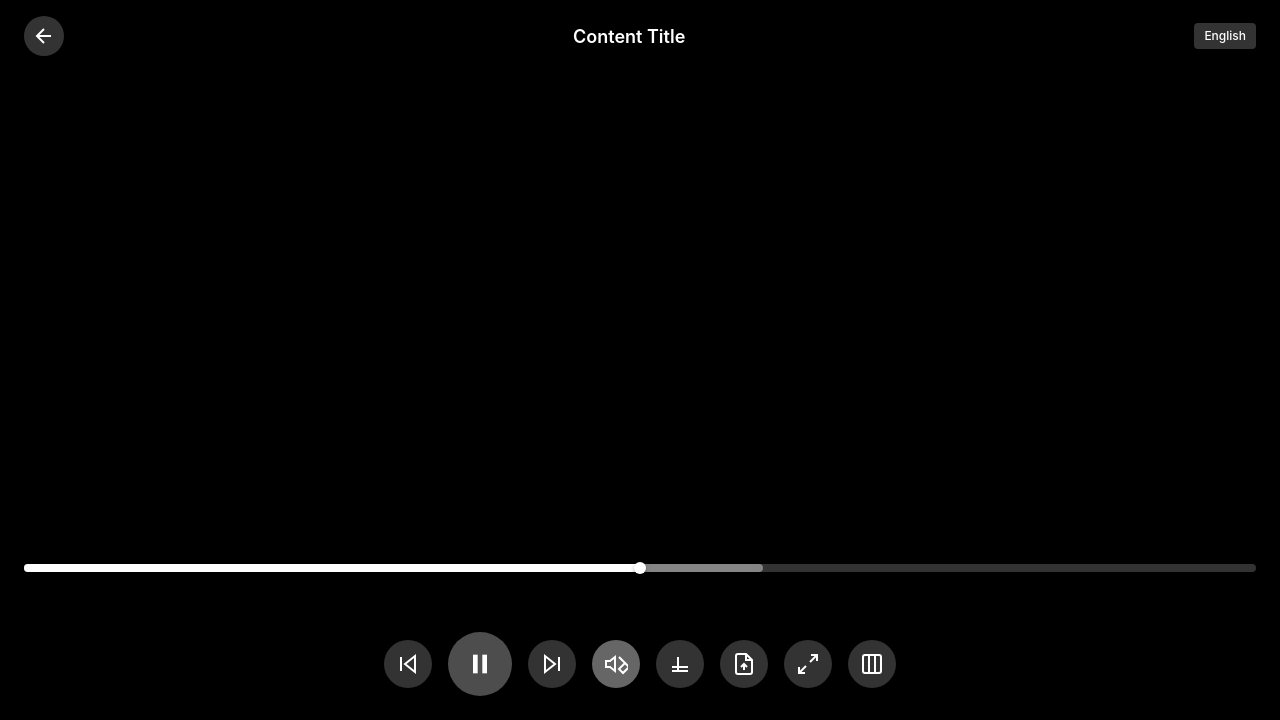
Production VideoPlayer tracks (slice 3) › opens the subtitle picker when no embedded tracks exist
This screenshot has width=1280, height=720.
Step 1. Click the button with test id "osd-subtitle-button" → (680, 664), box [656, 640, 704, 688]
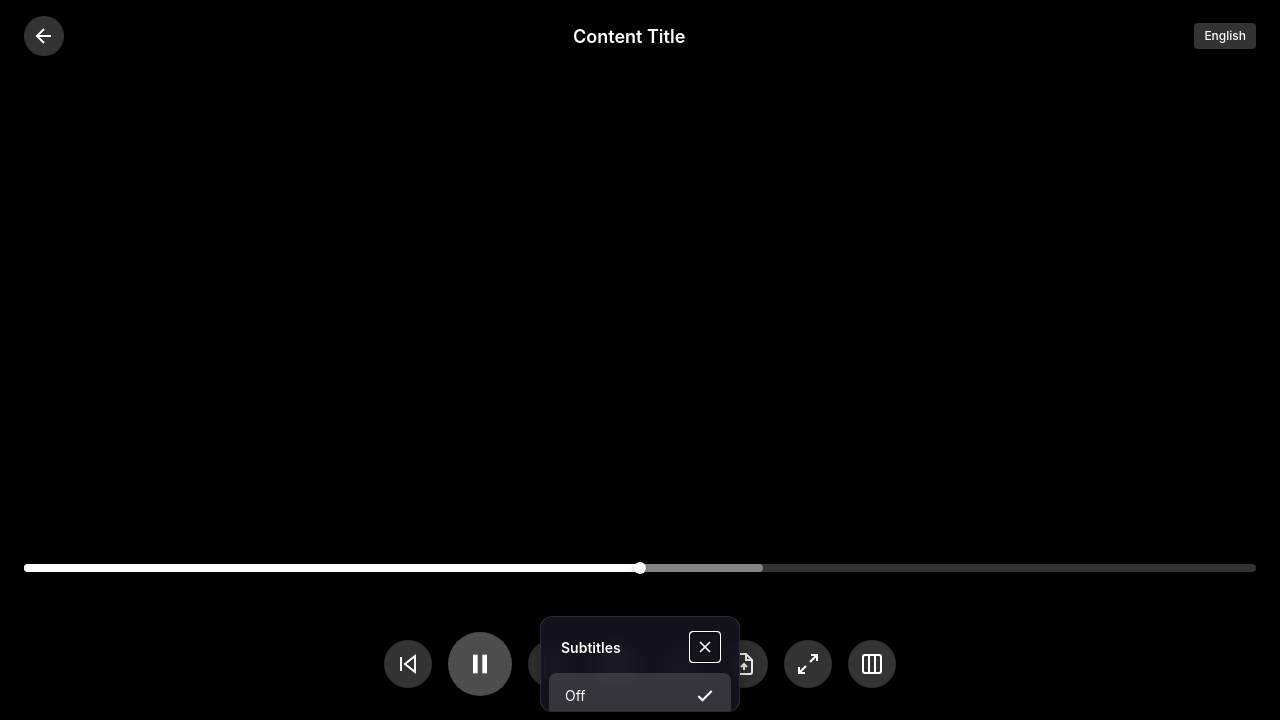
Check: the text "Off" is shown, box [565, 685, 586, 706]
